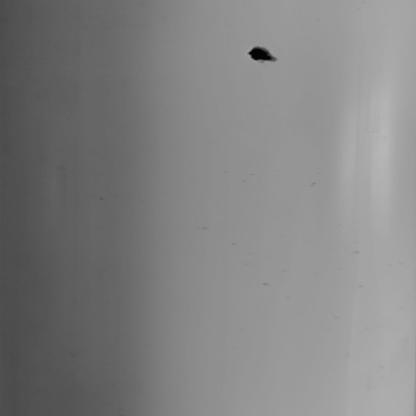kongdong: (239, 36, 287, 71)
